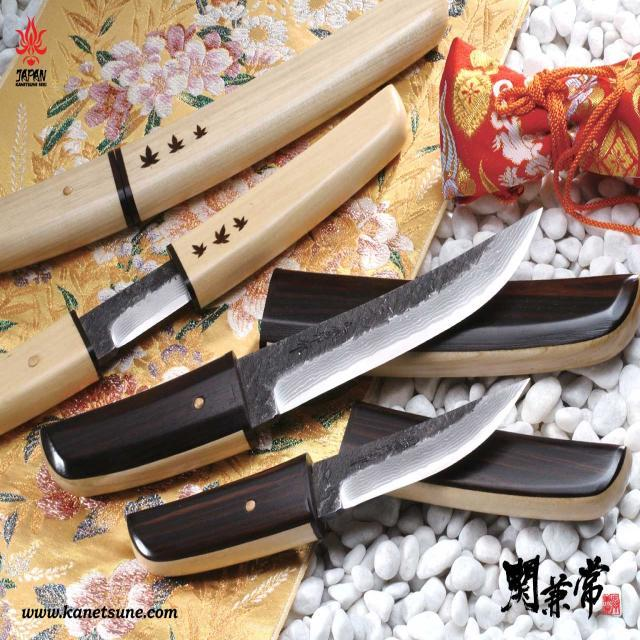Pisau: (35, 199, 561, 495)
